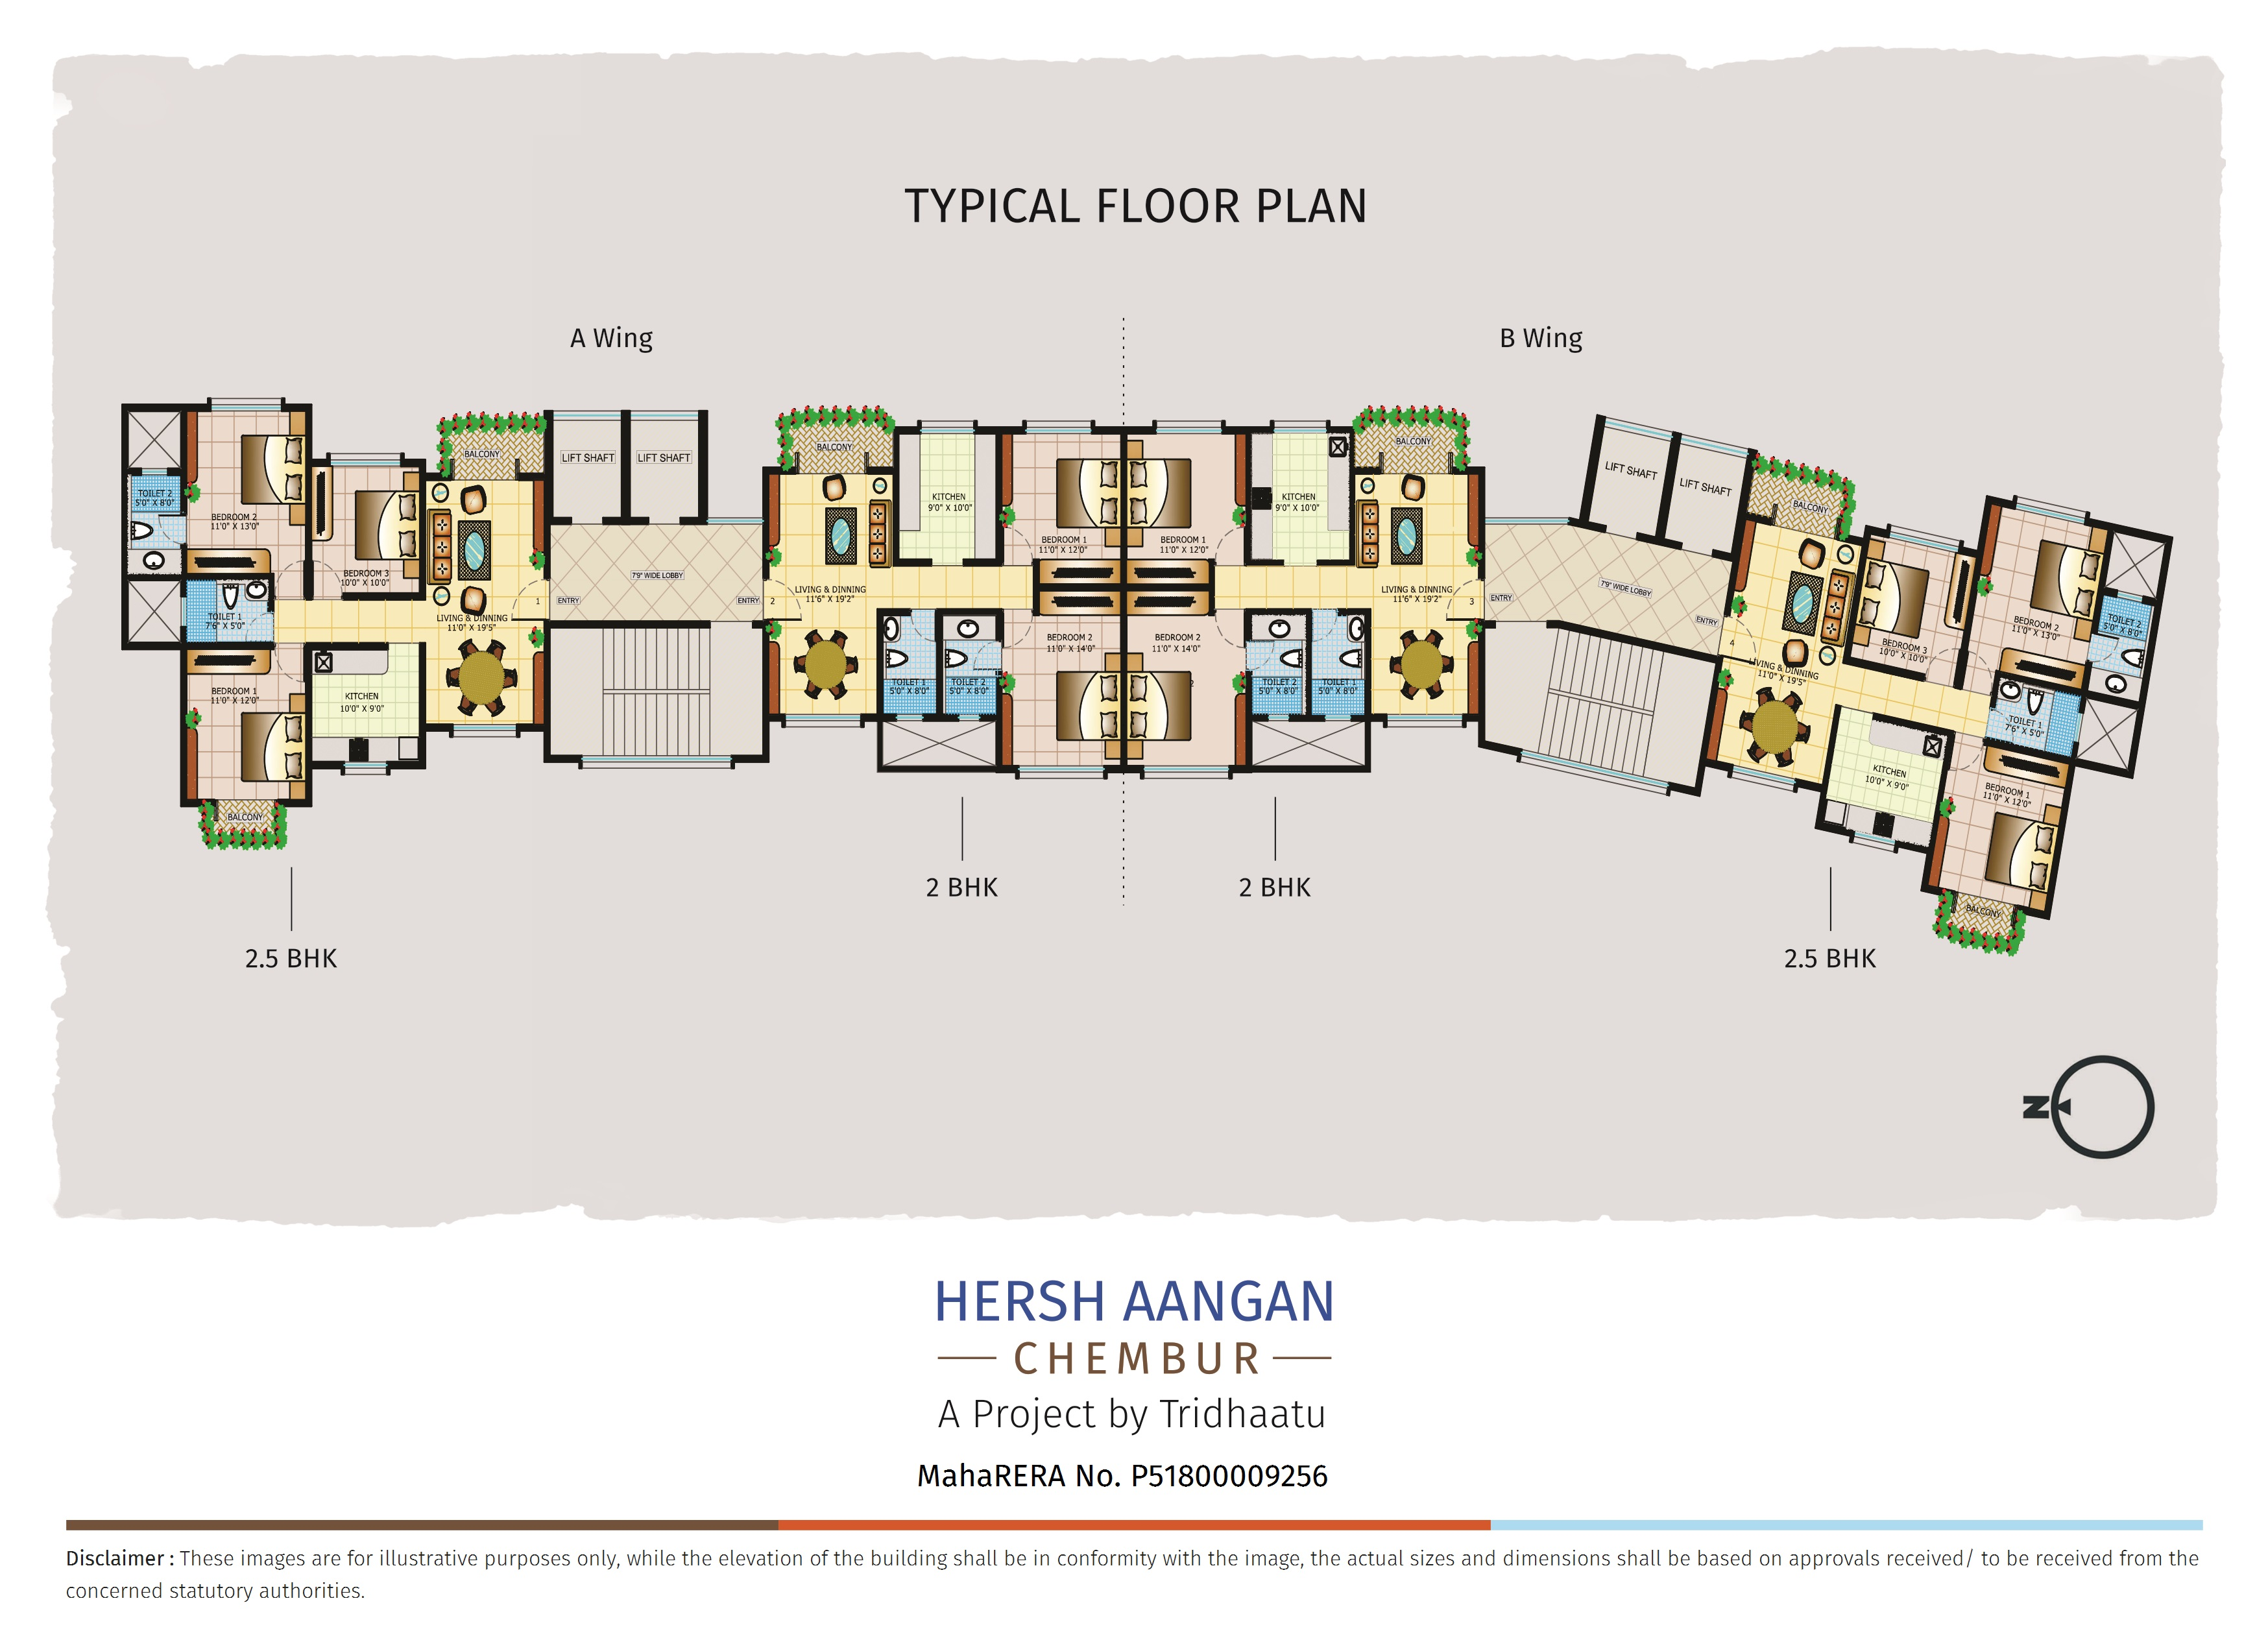window: (581, 754, 731, 770), (1141, 763, 1229, 780), (1018, 763, 1104, 780), (784, 712, 861, 729), (1386, 712, 1463, 729), (208, 396, 283, 414), (328, 451, 403, 469), (1023, 417, 1092, 435), (1155, 417, 1224, 435), (551, 407, 625, 423), (451, 722, 518, 738), (629, 409, 703, 423), (1271, 417, 1328, 435), (919, 419, 976, 435), (343, 759, 387, 775)
